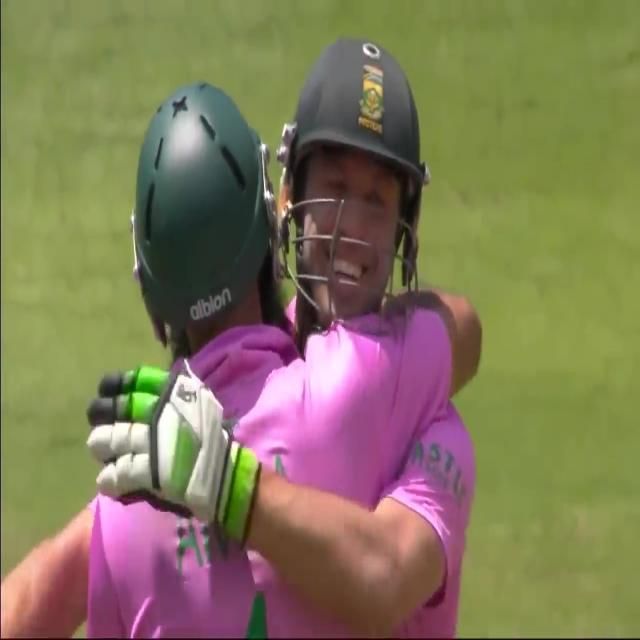Ball: (73, 78, 390, 640)
